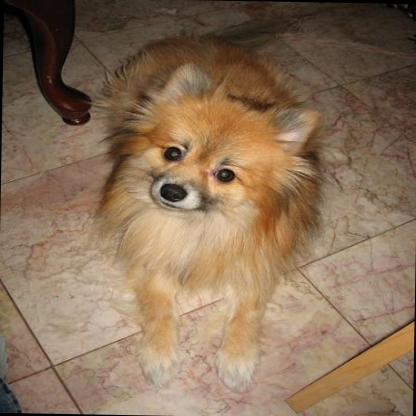Pomeranian: (96, 35, 326, 390)
